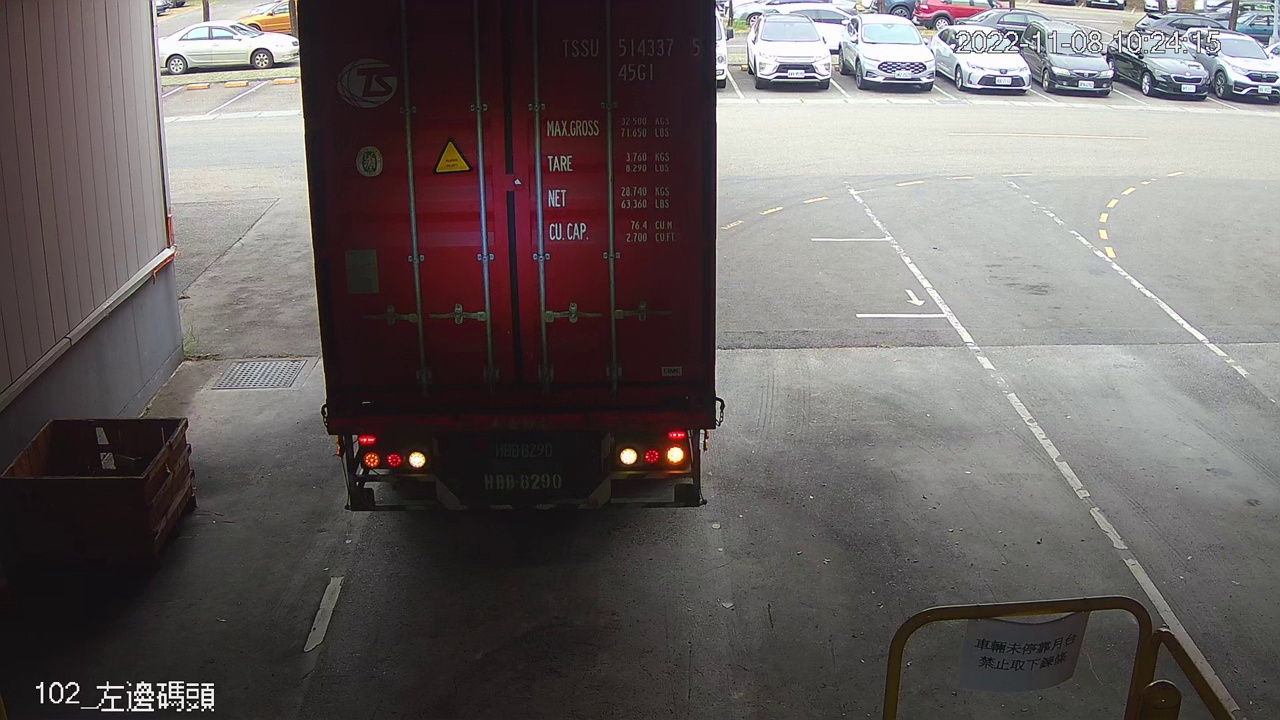container: (554, 27, 708, 91)
